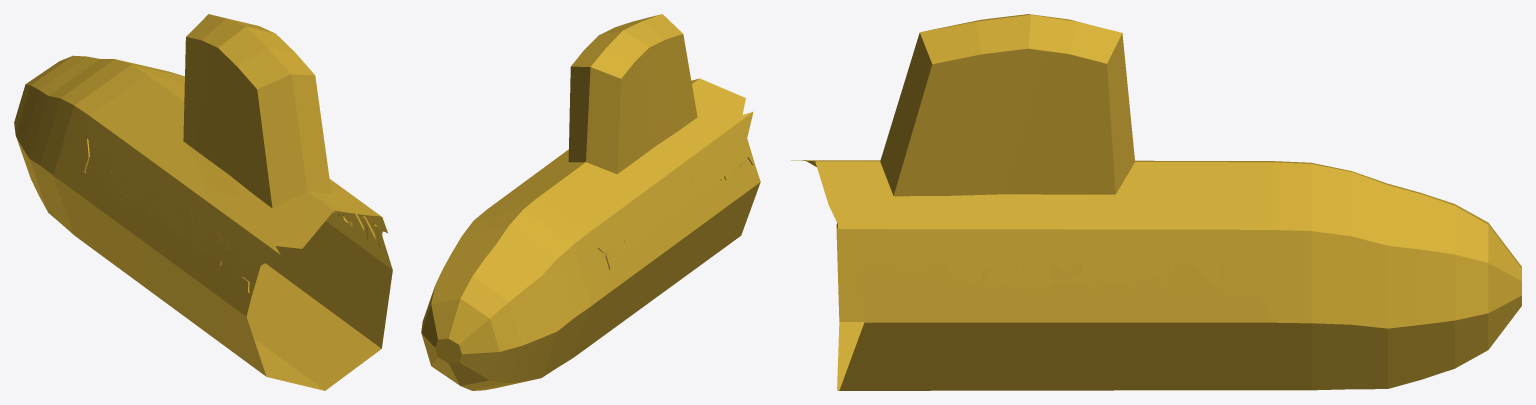
File: submarrinePart1.fbx
3 views of the same model, side by side, from view 1: azimuth 30°, elevation 25°; view 2: azimuth 150°, elevation 25°; view 3: azimuth 270°, elevation 25° (orthographic). The views are drawn at different scales.
Visible parts, largest first — view 1: Circle.002; view 2: Circle.002; view 3: Circle.002.
Part boxes in pixels (x1,y1,x2,y2): Circle.002: (14,14,392,390); Circle.002: (421,14,760,390); Circle.002: (791,14,1521,390).
Bounding box in the file's own units: 176 × 326 × 578.
